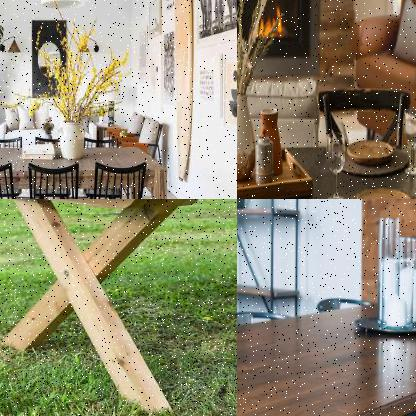table: (0, 199, 236, 415), (237, 283, 415, 415), (237, 131, 415, 198), (0, 141, 174, 198)
